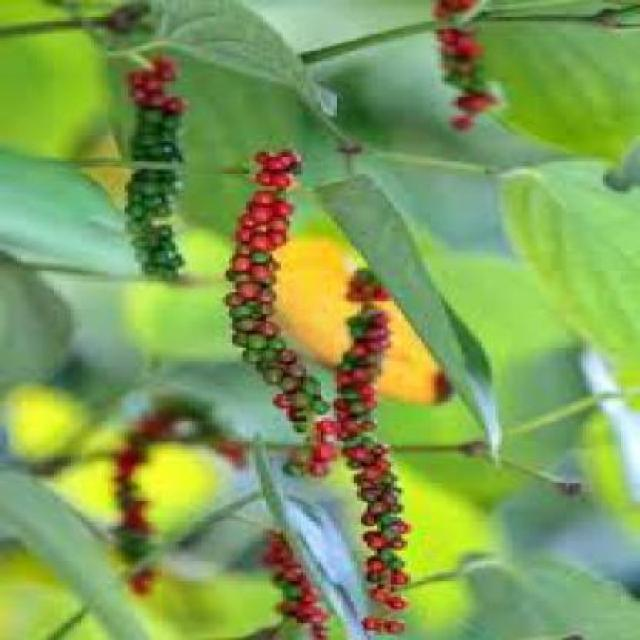RIPE: (218, 145, 331, 416), (323, 266, 402, 632), (411, 0, 509, 145)
UNRIPE: (125, 117, 192, 269)
